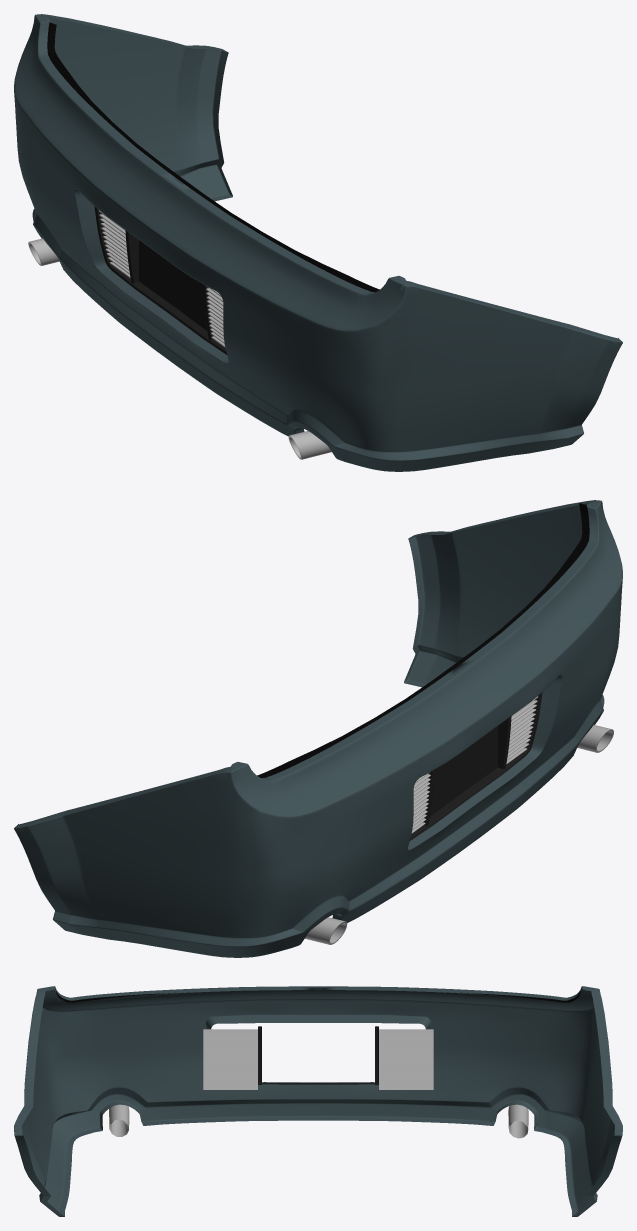
3 views of the same model, one above another, from view 1: azimuth 30°, elevation 25°; view 2: azimuth 150°, elevation 25°; view 3: azimuth 270°, elevation 25° (orthographic). The views are drawn at different scales.
Parts seen in each view (by area): view 1: P222_15_561G_C_P222_15_561G_C_1_DaS, P222_15_561G_C_P222_15_561G_C_2_D, P222_15_561G_C_4_D_P222_15_561G_C, P222_15_561G_C_P222_15_561G_C_3_DaS, P222_15_561G_C_P222_15_561G_C_1_DaS_E, P222_15_561G_C_P222_15_561G_C_2_DaS; view 2: P222_15_561G_C_P222_15_561G_C_1_DaS, P222_15_561G_C_P222_15_561G_C_2_D, P222_15_561G_C_4_D_P222_15_561G_C, P222_15_561G_C_P222_15_561G_C_3_DaS, P222_15_561G_C_P222_15_561G_C_1_DaS_E, P222_15_561G_C_P222_15_561G_C_2_DaS; view 3: P222_15_561G_C_P222_15_561G_C_1_DaS, P222_15_561G_C_P222_15_561G_C_3_DaS, P222_15_561G_C_P222_15_561G_C_1_DaS_E, P222_15_561G_C_P222_15_561G_C_2_DaS, P222_15_561G_C_P222_15_561G_C_2_D, P222_15_561G_C_4_D_P222_15_561G_C.
Part boxes in pixels (<box>): P222_15_561G_C_P222_15_561G_C_1_DaS: <box>14,14,622,471</box>; P222_15_561G_C_P222_15_561G_C_2_D: <box>94,206,226,354</box>; P222_15_561G_C_4_D_P222_15_561G_C: <box>47,22,379,292</box>; P222_15_561G_C_P222_15_561G_C_3_DaS: <box>99,210,225,347</box>; P222_15_561G_C_P222_15_561G_C_1_DaS_E: <box>35,14,622,433</box>; P222_15_561G_C_P222_15_561G_C_2_DaS: <box>28,238,331,459</box>; P222_15_561G_C_P222_15_561G_C_1_DaS: <box>14,500,622,957</box>; P222_15_561G_C_P222_15_561G_C_2_D: <box>410,692,542,840</box>; P222_15_561G_C_4_D_P222_15_561G_C: <box>257,503,589,778</box>; P222_15_561G_C_P222_15_561G_C_3_DaS: <box>411,696,537,833</box>; P222_15_561G_C_P222_15_561G_C_1_DaS_E: <box>14,500,601,920</box>; P222_15_561G_C_P222_15_561G_C_2_DaS: <box>305,725,613,944</box>; P222_15_561G_C_P222_15_561G_C_1_DaS: <box>14,986,622,1216</box>; P222_15_561G_C_P222_15_561G_C_3_DaS: <box>203,1029,433,1089</box>; P222_15_561G_C_P222_15_561G_C_1_DaS_E: <box>14,986,622,1216</box>; P222_15_561G_C_P222_15_561G_C_2_DaS: <box>109,1104,528,1138</box>; P222_15_561G_C_P222_15_561G_C_2_D: <box>258,1026,378,1085</box>; P222_15_561G_C_4_D_P222_15_561G_C: <box>55,989,580,1002</box>.
Size of the model in its own units: 70.62 by 52.03 by 174.
